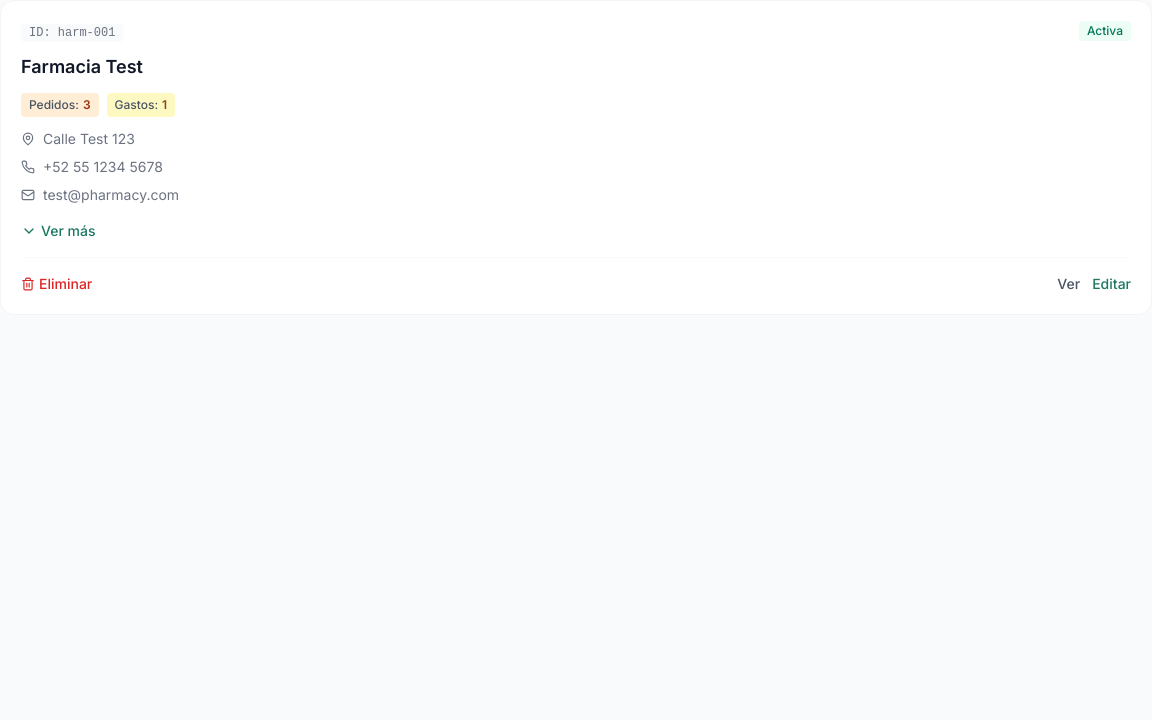
it: PharmacyCard › should show delete confirmation modal when clicking delete
Click delete button in the card footer
Click the button "Eliminar": (57,284) [21,274,92,294]
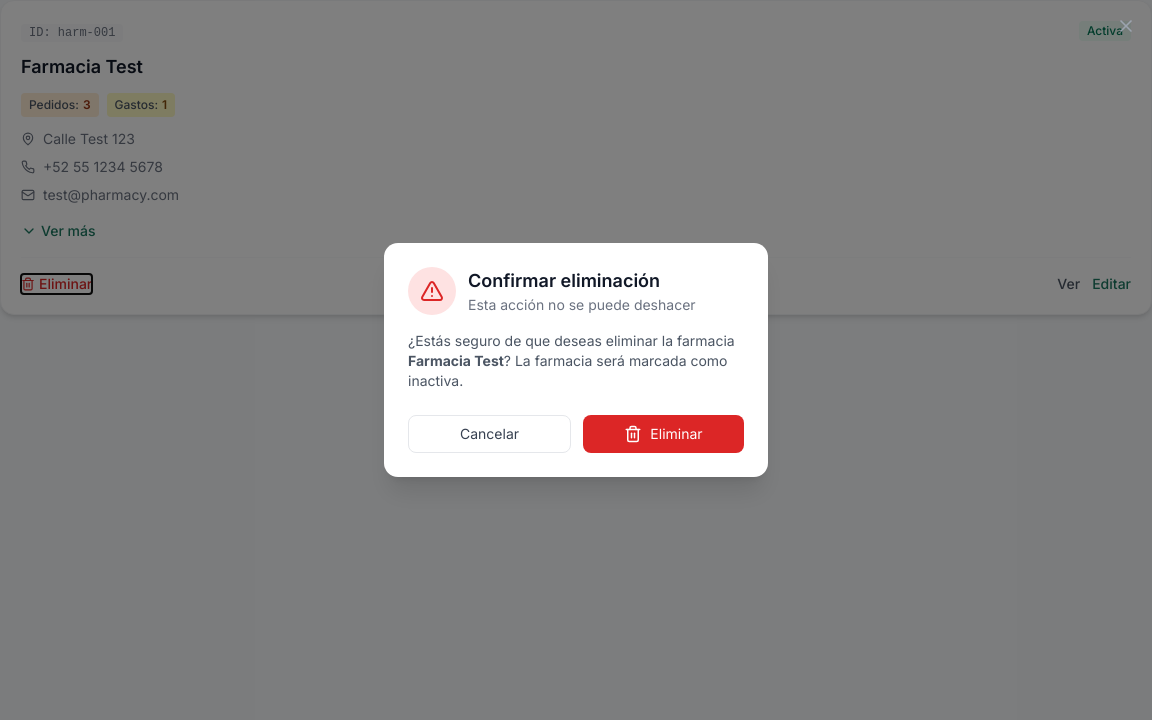
Now the heading "Confirmar eliminación" is shown, box [468,270,660,291]
Now the text "Farmacia Test" is shown, box [408,352,504,369]
